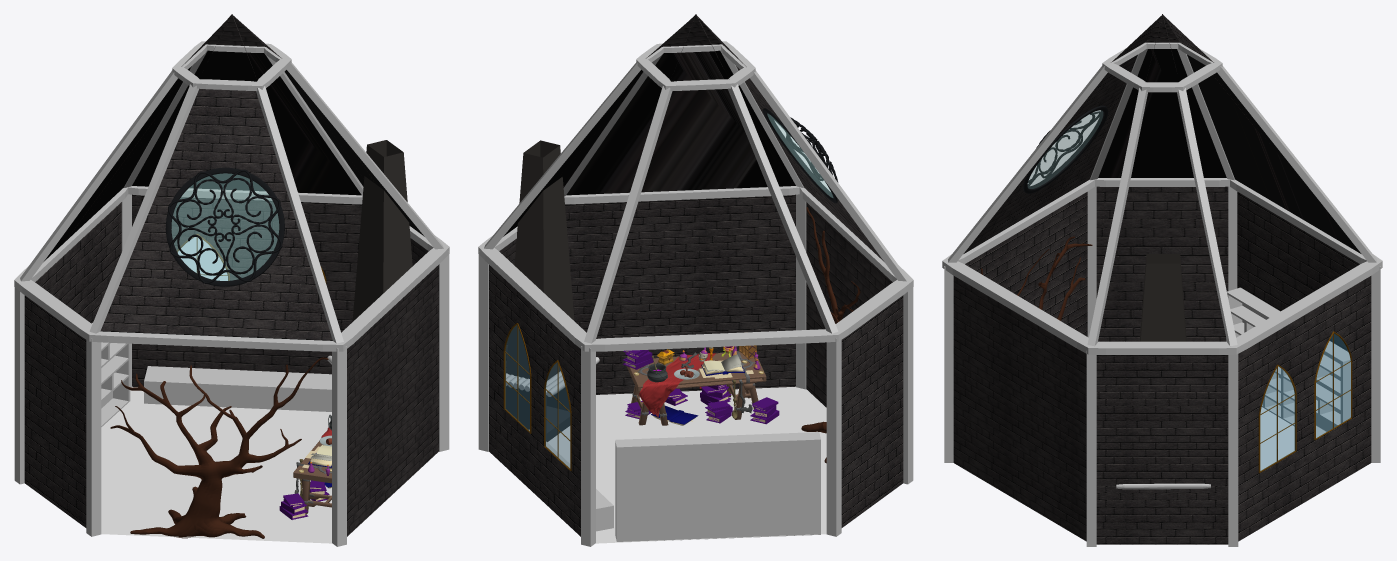
Rendered from Ciekawość — kopia.fbx.
3 renders of one model, left to right at view 1: azimuth 30°, elevation 25°; view 2: azimuth 150°, elevation 25°; view 3: azimuth 270°, elevation 25°, orthographic.
Parts seen in each view (by area): view 1: Dach_z_oknem, Podłoga, ściana3, ściana5_z_oknami, Dach, Belki_dachowe, Ściana1, Belki_ścienne, Belka_dachowa_większa, polySurface736.001, Okno_dachowe, Cube.003 (+8 smaller); view 2: ściana3, Cube.004, Dach, Belki_dachowe, ściana5_z_oknami, Belki_ścienne, Ściana1, Belka_dachowa_większa, Podłoga, calavera_low, Cube.002, ściana2 (+11 smaller); view 3: ściana3, ściana4, ściana5_z_oknami, Dach, Ściana1, Belki_dachowe, Belka_dachowa_większa, Belki_ścienne, ściana2, ściana6, Szyby_okna, Cube.004 (+11 smaller).
Boxes of the visible parts, <box> form: Dach_z_oknem: <box>100,88,332,340</box>; Podłoga: <box>101,386,332,543</box>; ściana3: <box>347,265,438,536</box>; ściana5_z_oknami: <box>132,194,361,386</box>; Dach: <box>44,50,424,261</box>; Belki_dachowe: <box>20,50,443,343</box>; Ściana1: <box>24,295,86,527</box>; Belki_ścienne: <box>14,194,449,546</box>; Belka_dachowa_większa: <box>14,186,449,351</box>; polySurface736.001: <box>110,357,328,538</box>; Okno_dachowe: <box>171,173,279,280</box>; Cube.003: <box>144,366,331,411</box>; ściana3: <box>565,194,795,394</box>; Cube.004: <box>615,432,820,541</box>; Dach: <box>503,50,795,236</box>; Belki_dachowe: <box>484,50,907,343</box>; ściana5_z_oknami: <box>489,265,580,536</box>; Belki_ścienne: <box>478,194,913,546</box>; Ściana1: <box>841,295,903,527</box>; Belka_dachowa_większa: <box>478,186,913,351</box>; Podłoga: <box>548,386,826,543</box>; calavera_low: <box>622,345,779,425</box>; Cube.002: <box>506,140,574,380</box>; ściana2: <box>806,202,892,407</box>; ściana3: <box>953,276,1086,541</box>; ściana4: <box>1096,355,1228,544</box>; ściana5_z_oknami: <box>1238,276,1371,541</box>; Dach: <box>1098,49,1361,253</box>; Ściana1: <box>1096,186,1228,341</box>; Belki_dachowe: <box>948,49,1376,346</box>; Belka_dachowa_większa: <box>942,178,1382,354</box>; Belki_ścienne: <box>944,186,1380,546</box>; ściana2: <box>965,192,1087,336</box>; ściana6: <box>1237,192,1359,351</box>; Szyby_okna: <box>1260,334,1350,470</box>; Cube.004: <box>1226,287,1350,437</box>.
Bounding box in the file's own units: 744 × 892 × 793.
